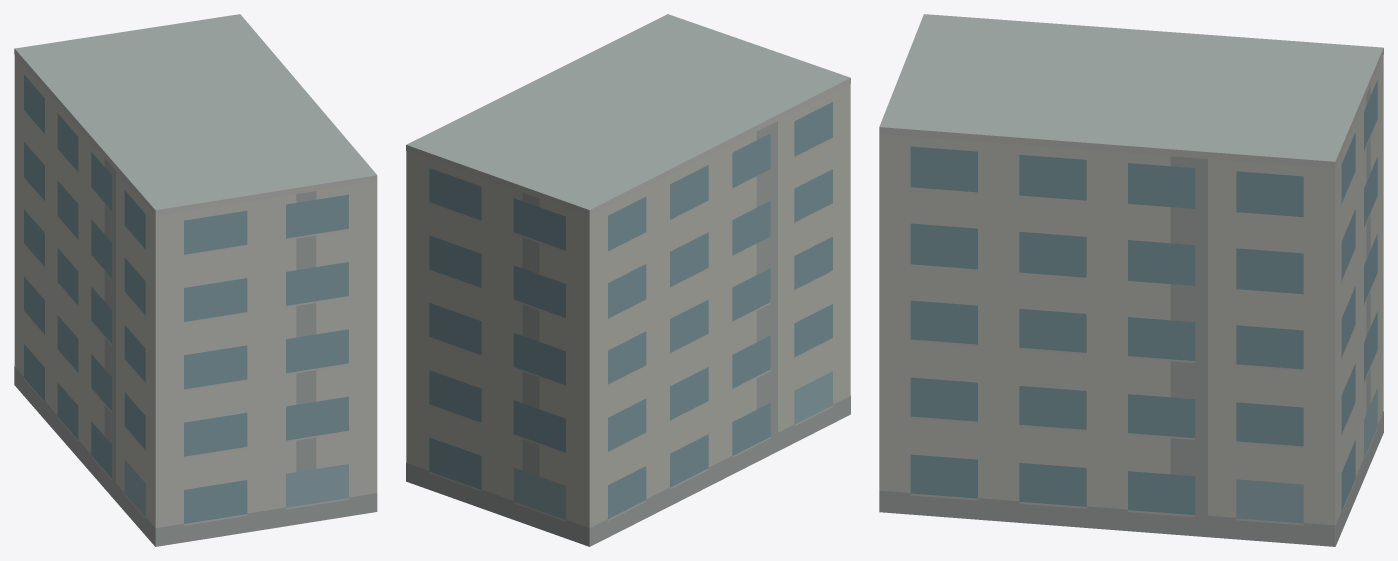
The model's file is survey-upis-32883452.glb.
3 views of the same model, side by side, from view 1: azimuth 30°, elevation 25°; view 2: azimuth 150°, elevation 25°; view 3: azimuth 270°, elevation 25° (orthographic). The views are drawn at different scales.
Parts seen in each view (by area): view 1: survey-upis-32883452.tmp; view 2: survey-upis-32883452.tmp; view 3: survey-upis-32883452.tmp.
Boxes of the visible parts, <box> form: survey-upis-32883452.tmp: <box>14,14,377,546</box>; survey-upis-32883452.tmp: <box>406,14,850,546</box>; survey-upis-32883452.tmp: <box>879,14,1383,546</box>.
Size of the model in its own units: 11.04 by 13.4 by 15.92.
